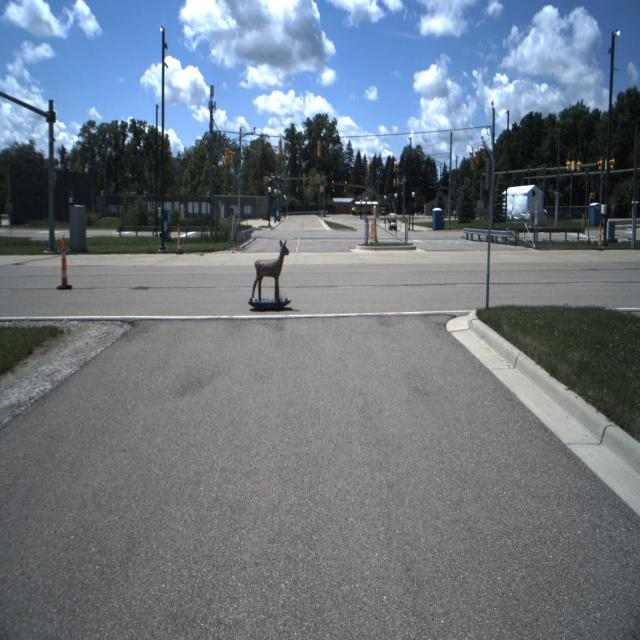Deer: (252, 239, 289, 301)
